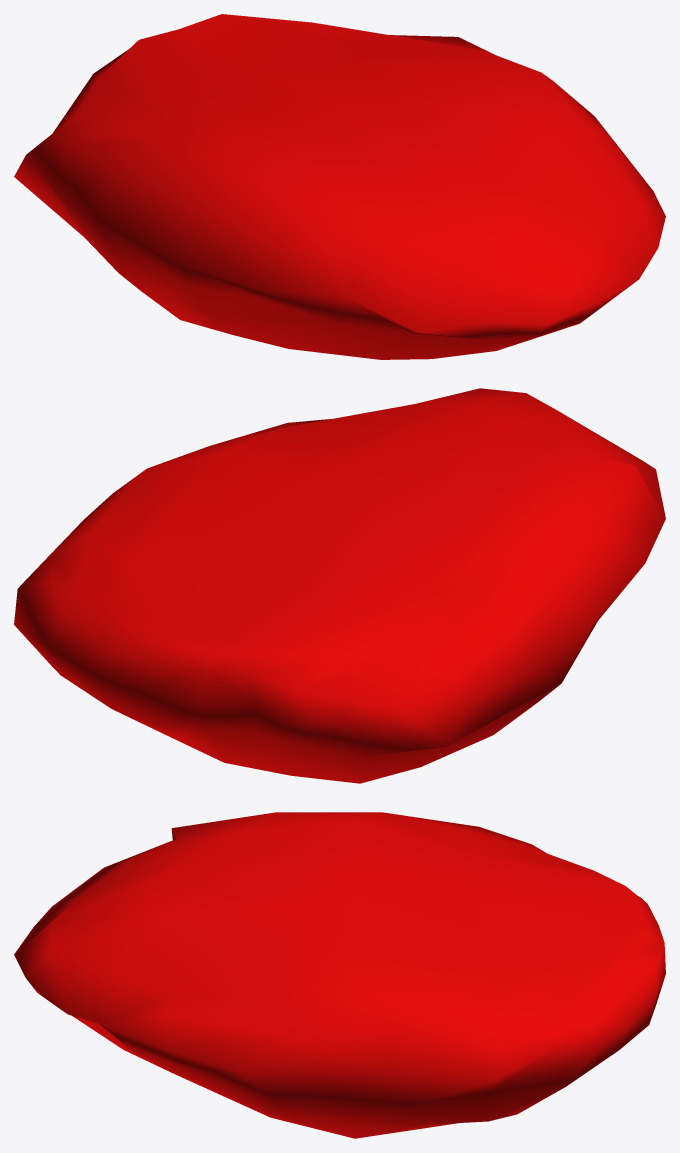
The model's file is FloatyWallAttachment04_mesh.fbx.
3 views of the same model, one above another, from view 1: azimuth 30°, elevation 25°; view 2: azimuth 150°, elevation 25°; view 3: azimuth 270°, elevation 25° (orthographic). The views are drawn at different scales.
Visible parts, largest first — view 1: Floaty_wallattachment04_model; view 2: Floaty_wallattachment04_model; view 3: Floaty_wallattachment04_model.
Boxes of the visible parts, <box> form: Floaty_wallattachment04_model: <box>14,14,665,359</box>; Floaty_wallattachment04_model: <box>14,388,665,783</box>; Floaty_wallattachment04_model: <box>14,812,665,1138</box>.
Size of the model in its own units: 53.48 by 24.52 by 68.5.
